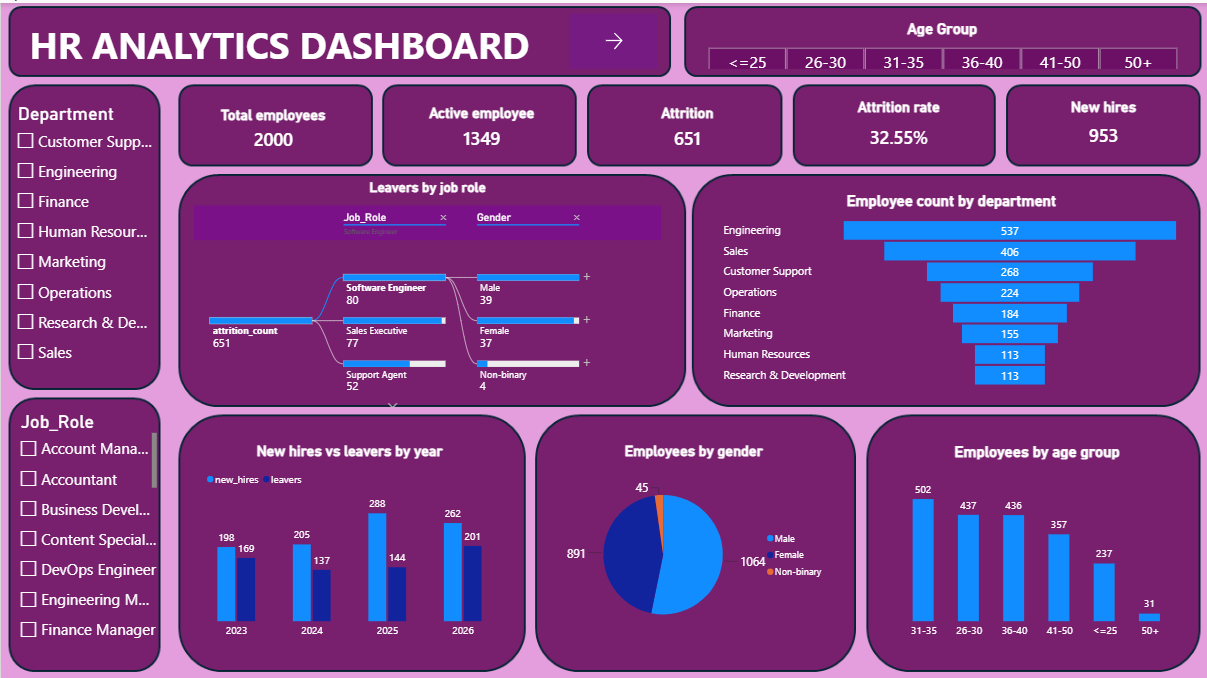

This screenshot's page, from the dashboard's own definition file:
{"tool":"powerbi","page":{"name":"overview","canvas":[1920,1080],"ordinal":0},"visuals":[{"type":"textbox","box":[45.3,26.2,827.9,78.7],"z":0},{"type":"slicer","fields":{"Values":["Dim_Job.Department"]},"box":[19.8,158.7,223.9,430.9],"z":1000},{"type":"slicer","fields":{"Values":["Dim_Job.Job_Role"]},"box":[22.7,649.1,223.9,382.7],"z":2000},{"type":"card","title":"Total employees","fields":{"Values":["calculated_Table.total_employee"]},"box":[310.2,150.3,245.7,93.1],"z":3000},{"type":"card","title":"Active employee","fields":{"Values":["calculated_Table.attrition"]},"box":[625.1,147.9,279.2,95.4],"z":4000},{"type":"card","title":"Attrition","fields":{"Values":["calculated_Table.attrition"]},"box":[959.1,147.9,264.8,95.4],"z":5000},{"type":"card","title":"Attrition rate","fields":{"Values":["calculated_Table.attrition_rate"]},"box":[1290.8,138.4,274.4,112.1],"z":6000},{"type":"card","title":"New hires","fields":{"Values":["calculated_Table.new_hires"]},"box":[1617.7,138.4,272,105],"z":7000},{"type":"slicer","title":"Age Group","fields":{"Values":["Dim_Employee.Age_Group"]},"box":[1104.7,26.2,785,78.7],"z":8000},{"type":"decompositionTreeVisual","title":"Leavers  by job role","fields":{"Analyze":["calculated_Table.attrition_count"],"ExplainBy":["Dim_Job.Job_Role","Dim_Employee.Gender","Dim_Job.Job_Level","Dim_Employee.Age_Group","Dim_Job.Department"]},"box":[290,267.5,775,400],"z":9000},{"type":"funnel","title":"Employee count by department","fields":{"Category":["Dim_Job.Department"],"Y":["calculated_Table.employee_count"]},"box":[1133.7,285.6,756.8,339.8],"z":10000},{"type":"clusteredColumnChart","title":"New hires vs leavers by year","fields":{"Category":["Dim_Date.Date.Variation.Date Hierarchy.Year"],"Y":["calculated_Table.new_hires","calculated_Table.leavers"]},"box":[311.3,685.4,488.3,345.5],"z":11000},{"type":"pieChart","title":"Employees by gender","fields":{"Category":["Dim_Employee.Gender"],"Y":["calculated_Table.total_employee"]},"box":[873.9,685.4,456.9,345.5],"z":12000},{"type":"clusteredColumnChart","title":"Employees by age group","fields":{"Category":["Dim_Employee.Age_Group"],"Y":["calculated_Table.total_employee"]},"box":[1405,685.4,485.5,345.5],"z":13000},{"type":"actionButton","box":[904.3,16.7,140.8,88.3],"z":13002}]}

Visuals, with their boxes in screenshot pixels (x1, y1, x2, y2), scaled from the page's 1920x1080 canvas onto the 1207x678 screenshot:
textbox: Rect(28, 16, 549, 66)
slicer - Dim_Job.Department: Rect(12, 100, 153, 370)
slicer - Dim_Job.Job_Role: Rect(14, 407, 155, 648)
"Total employees" card: Rect(195, 94, 349, 153)
"Active employee" card: Rect(393, 93, 568, 153)
"Attrition" card: Rect(603, 93, 769, 153)
"Attrition rate" card: Rect(811, 87, 984, 157)
"New hires" card: Rect(1017, 87, 1188, 153)
"Age Group" slicer: Rect(694, 16, 1188, 66)
"Leavers  by job role" decompositionTreeVisual: Rect(182, 168, 670, 419)
"Employee count by department" funnel: Rect(713, 179, 1188, 393)
"New hires vs leavers by year" clusteredColumnChart: Rect(196, 430, 503, 647)
"Employees by gender" pieChart: Rect(549, 430, 837, 647)
"Employees by age group" clusteredColumnChart: Rect(883, 430, 1188, 647)
actionButton: Rect(568, 10, 657, 66)
